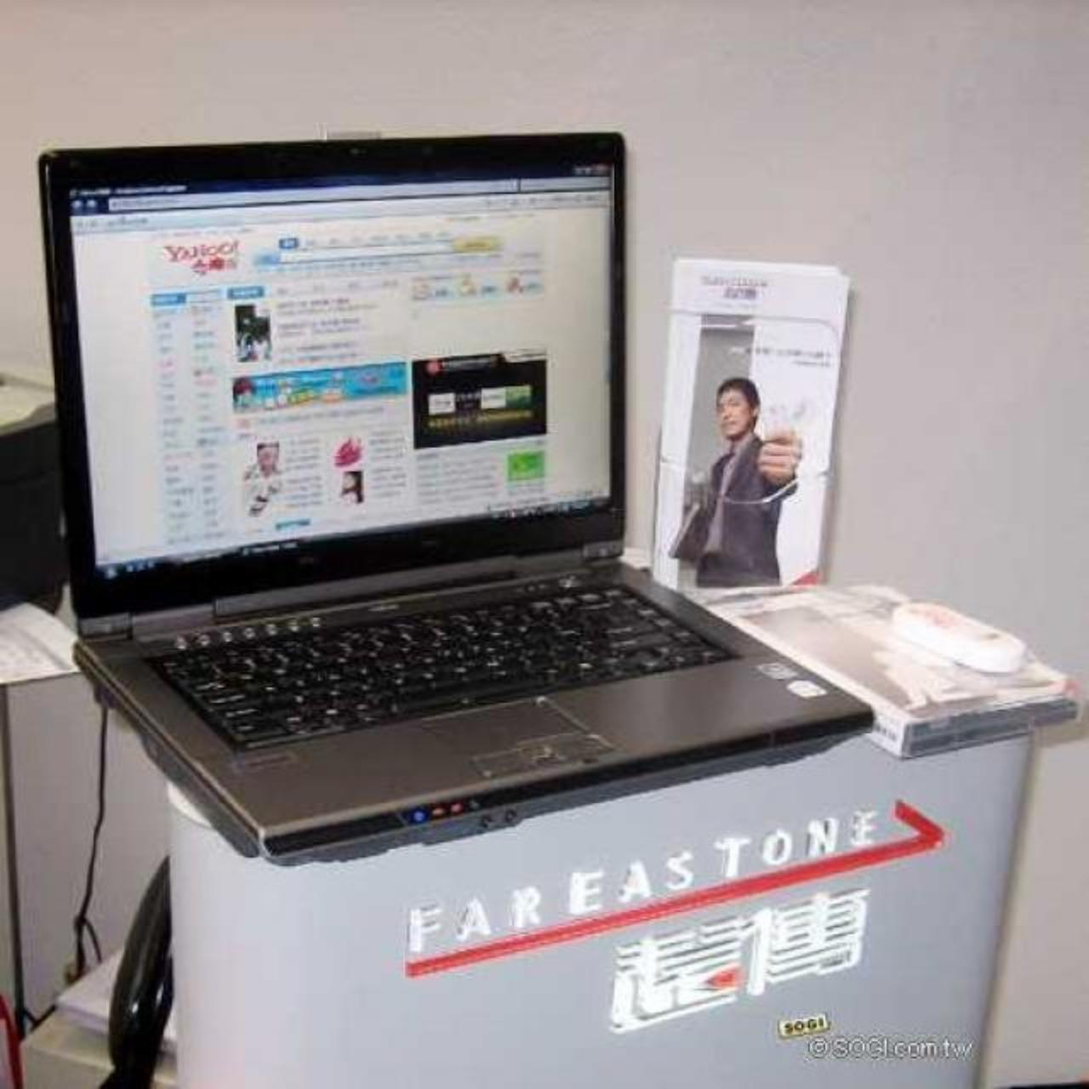laptop: (60, 170, 849, 824)
